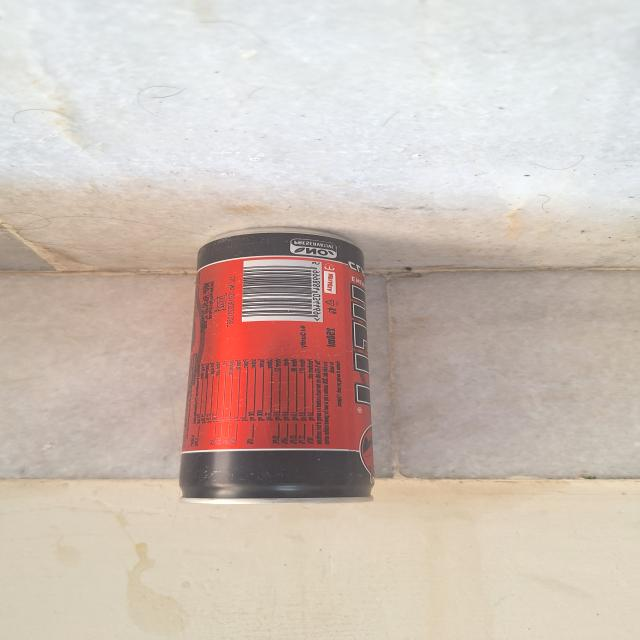Hell Classic: (165, 232, 382, 524)
